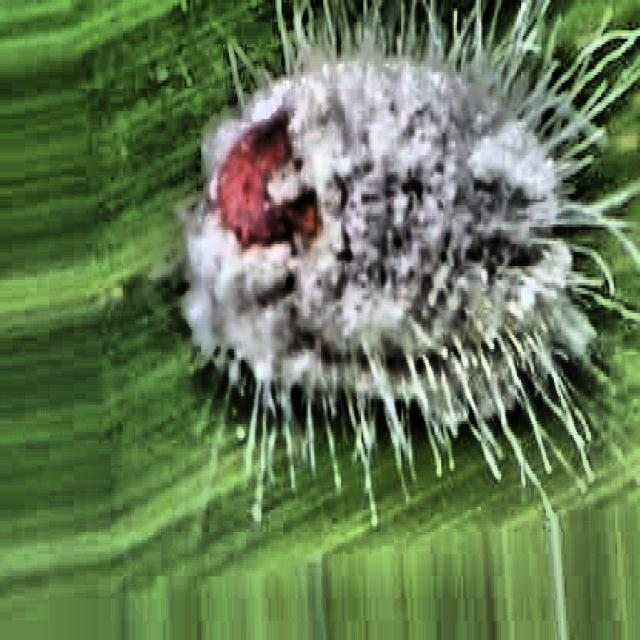Mealy-bug: (142, 12, 637, 524)
